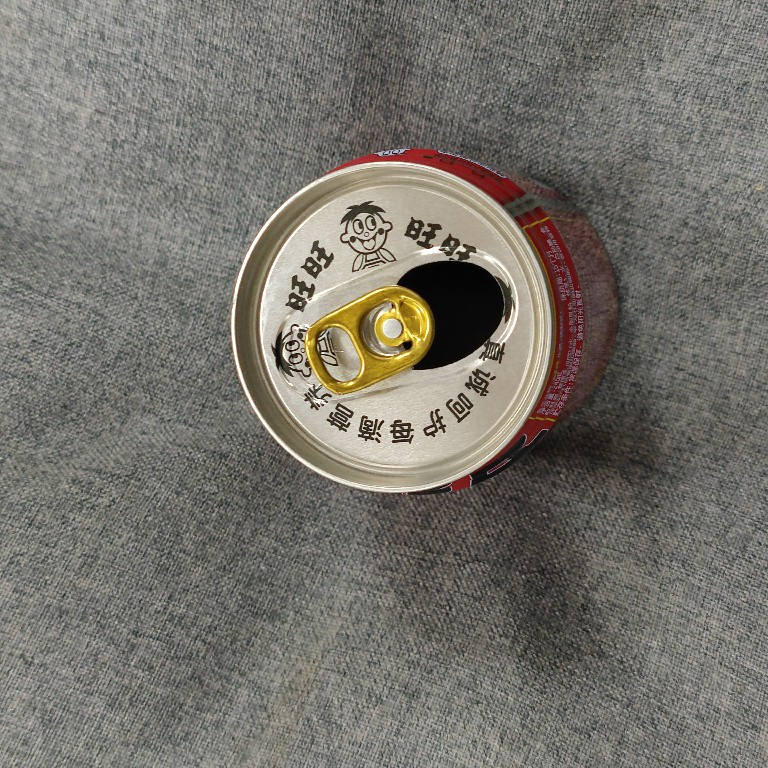can: (226, 144, 625, 502)
